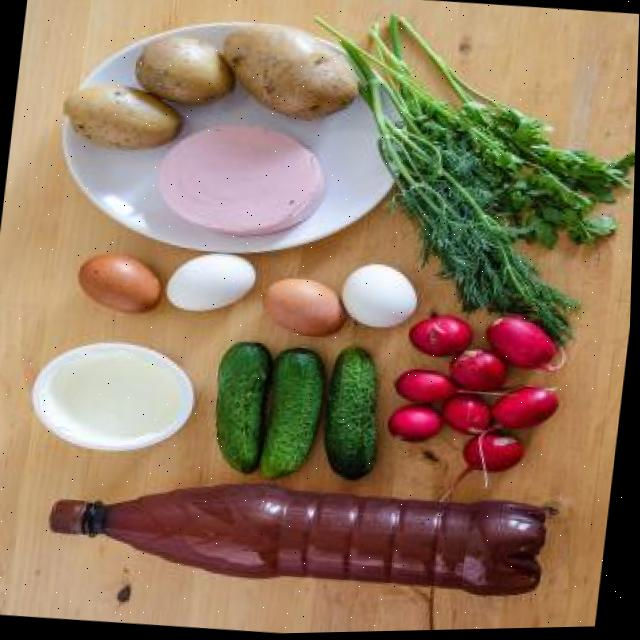Wet: (219, 21, 363, 123), (317, 343, 393, 482), (209, 337, 282, 475), (258, 339, 324, 483), (133, 29, 237, 111), (58, 82, 180, 149), (168, 245, 263, 320), (337, 261, 425, 332), (75, 250, 168, 315), (262, 276, 351, 341)
